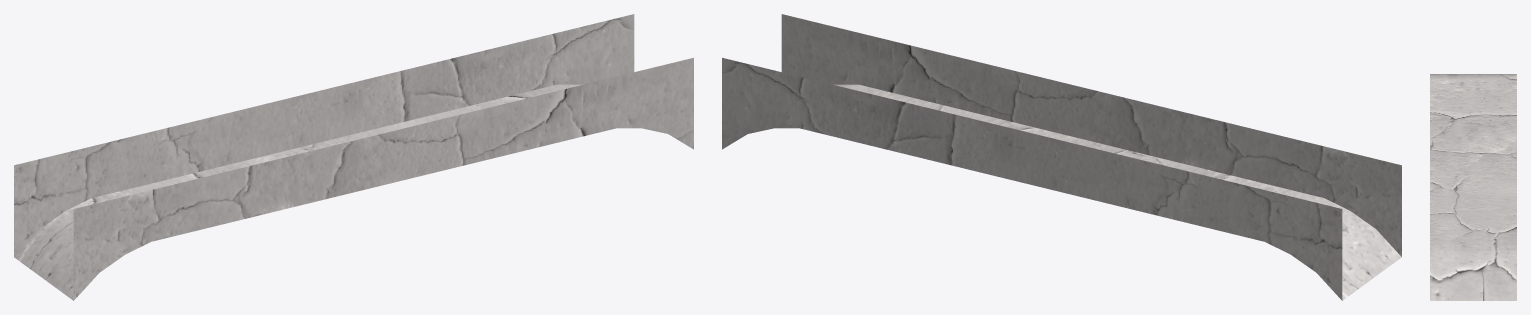
Rendered from SupportBeam_Small.fbx.
The picture shows the model from 3 angles, left to right: view 1: azimuth 30°, elevation 25°; view 2: azimuth 150°, elevation 25°; view 3: azimuth 270°, elevation 25°; orthographic projection. The views are drawn at different scales.
Parts seen in each view (by area): view 1: SupportBeam_Small; view 2: SupportBeam_Small; view 3: SupportBeam_Small.
Boxes of the visible parts, x1,y1,x2,y2 form: SupportBeam_Small: (14,14,693,300); SupportBeam_Small: (722,14,1401,300); SupportBeam_Small: (1430,74,1516,300).
Bounding box in the file's own units: 2.7 × 0.3826 × 0.45.
